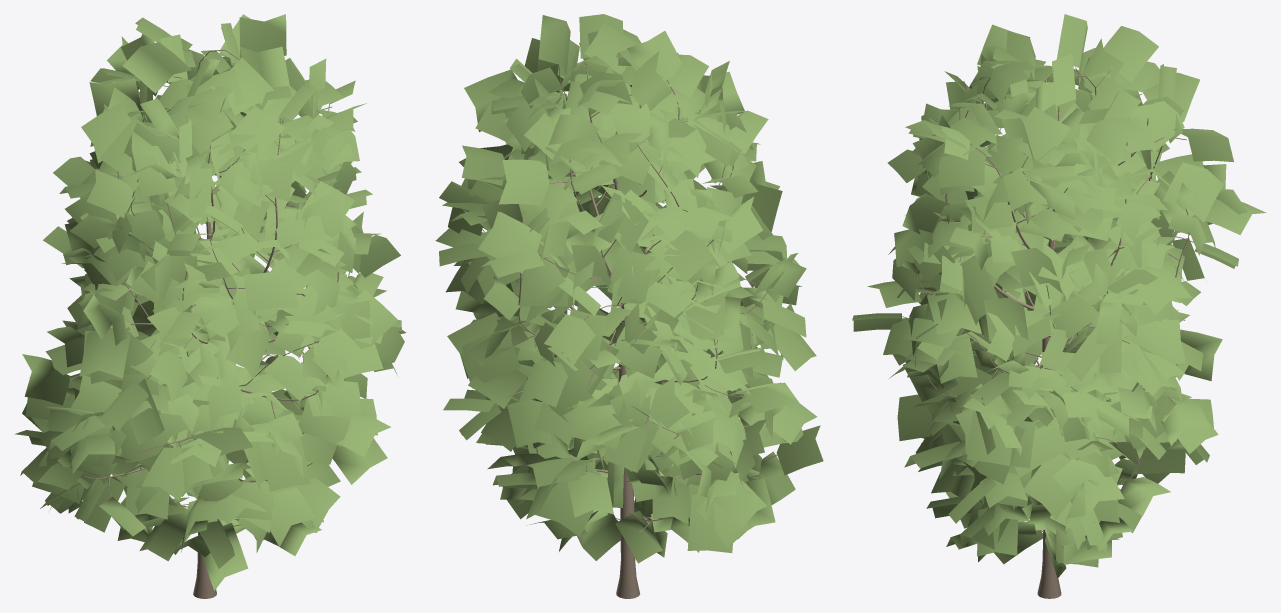
Rendered from Maple_12_young_lod0.glb.
The picture shows the model from 3 angles, left to right: view 1: azimuth 30°, elevation 25°; view 2: azimuth 150°, elevation 25°; view 3: azimuth 270°, elevation 25°; orthographic projection.
Visible parts, largest first — view 1: Maple_12_young_lod0; view 2: Maple_12_young_lod0; view 3: Maple_12_young_lod0.
Part boxes in pixels (box(x1,y1,x2,y2)): Maple_12_young_lod0: box(14, 14, 405, 598); Maple_12_young_lod0: box(435, 14, 823, 598); Maple_12_young_lod0: box(852, 14, 1266, 598).
Bounding box in the file's own units: 7.49 × 11.06 × 7.38.
